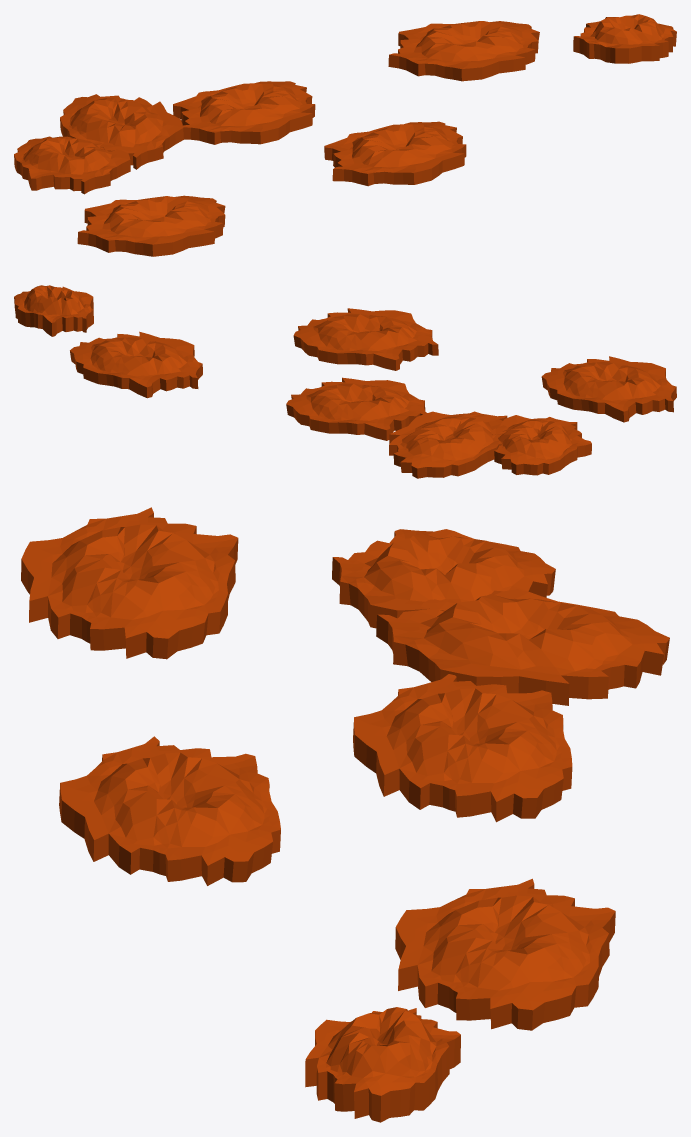
File: fBsff.fbx
The picture shows the model from 3 angles, top to bottom: view 1: azimuth 30°, elevation 25°; view 2: azimuth 150°, elevation 25°; view 3: azimuth 270°, elevation 25°; orthographic projection. The views are drawn at different scales.
Parts seen in each view (by area): view 1: fire stone effect.005, fire stone effect.003, fire stone effect.004, fire stone effect, fire stone effect.001, fire stone effect.002, fire stone effect.006; view 2: fire stone effect.004, fire stone effect.003, fire stone effect.005, fire stone effect, fire stone effect.001, fire stone effect.002, fire stone effect.006; view 3: fire stone effect.005, fire stone effect.003, fire stone effect.004, fire stone effect, fire stone effect.001, fire stone effect.002, fire stone effect.006.
Boxes of the visible parts, x1,y1,x2,y2 form: fire stone effect.005: (388,21,539,81); fire stone effect.003: (77,195,225,256); fire stone effect.004: (324,121,466,186); fire stone effect: (173,81,315,144); fire stone effect.001: (60,94,183,169); fire stone effect.002: (14,136,130,194); fire stone effect.006: (573,14,676,63); fire stone effect.004: (293,308,438,370); fire stone effect.003: (541,356,676,422); fire stone effect.005: (70,331,202,398); fire stone effect: (286,377,427,440); fire stone effect.001: (389,411,507,478); fire stone effect.002: (491,415,591,475); fire stone effect.006: (14,285,93,336); fire stone effect.005: (395,878,615,1030); fire stone effect.003: (21,507,238,659); fire stone effect.004: (59,736,280,885); fire stone effect: (353,674,572,822); fire stone effect.001: (376,589,669,705); fire stone effect.002: (332,529,555,628); fire stone effect.006: (305,1007,460,1122).
Size of the model in its own units: 19823 by 985 by 9244.
